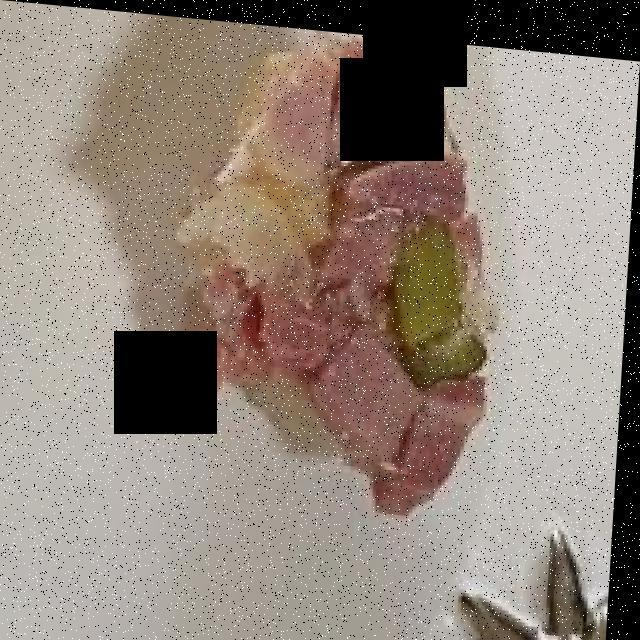cucumber-pickled: (395, 216, 483, 368)
ham: (212, 62, 511, 494)
